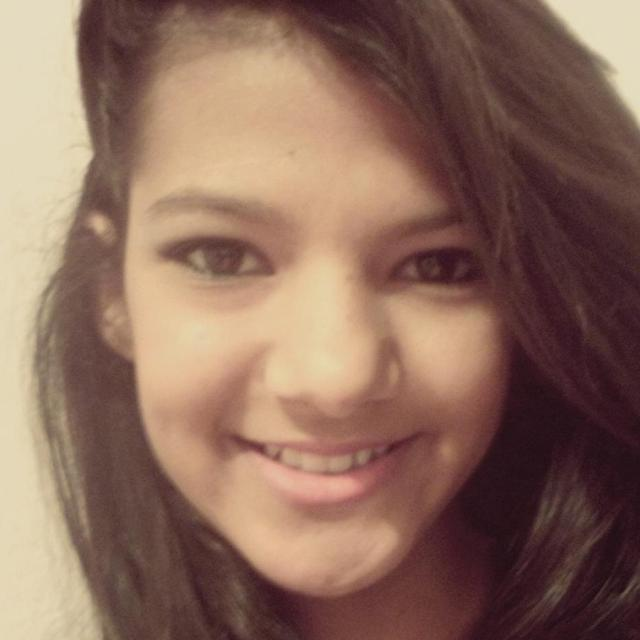Normal: (126, 36, 519, 597)
